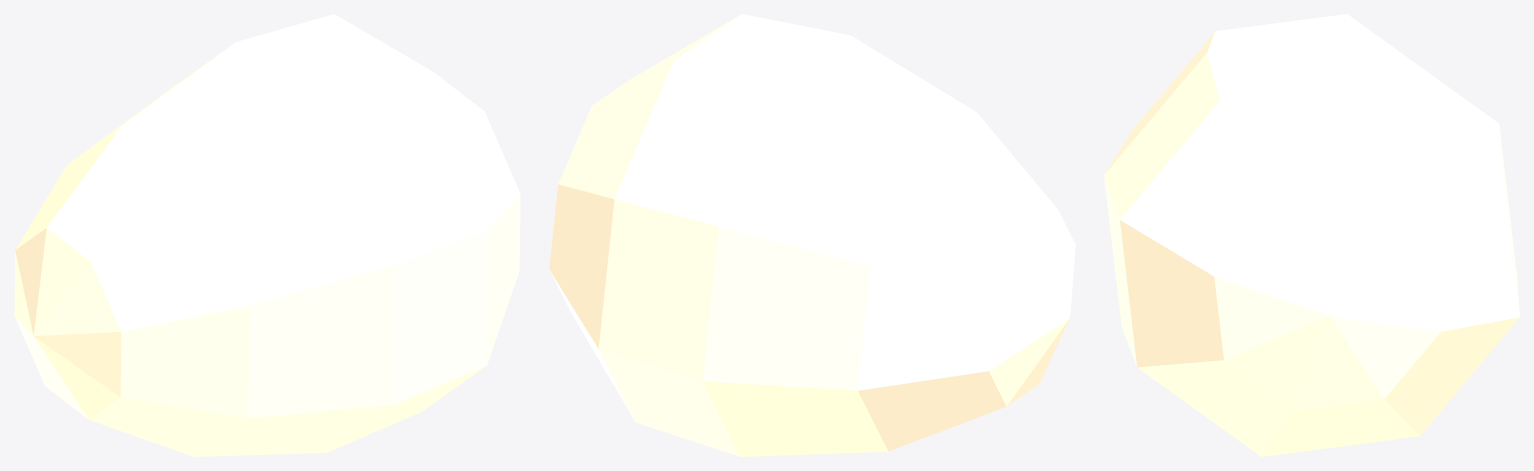
The model's file is lowpoly_egg.glb.
3 views of the same model, side by side, from view 1: azimuth 30°, elevation 25°; view 2: azimuth 150°, elevation 25°; view 3: azimuth 270°, elevation 25° (orthographic).
Visible parts, largest first — view 1: node_egg-chicken_(5)_-256036_1; view 2: node_egg-chicken_(5)_-256036_1; view 3: node_egg-chicken_(5)_-256036_1.
Boxes of the visible parts, left/top/right/bottom form: node_egg-chicken_(5)_-256036_1: left=14, top=14, right=520, bottom=456; node_egg-chicken_(5)_-256036_1: left=549, top=14, right=1075, bottom=456; node_egg-chicken_(5)_-256036_1: left=1104, top=14, right=1519, bottom=456.
Bounding box in the file's own units: 0.5148 × 0.3903 × 0.3925.
